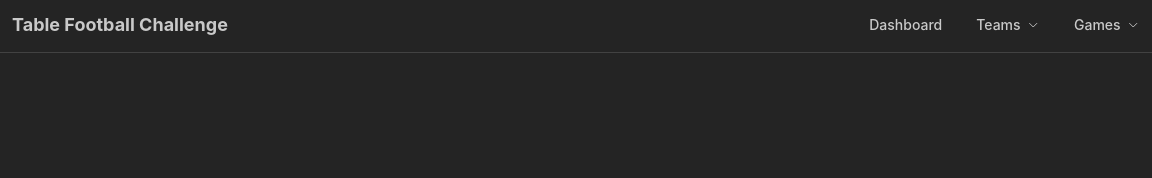
Test: Header › toggles menu dropdown when hovering over menu items
Open menu dropdown on hover
Hover over the link "Teams" at (1008, 24), box x1=976 y1=16 x2=1040 y2=33
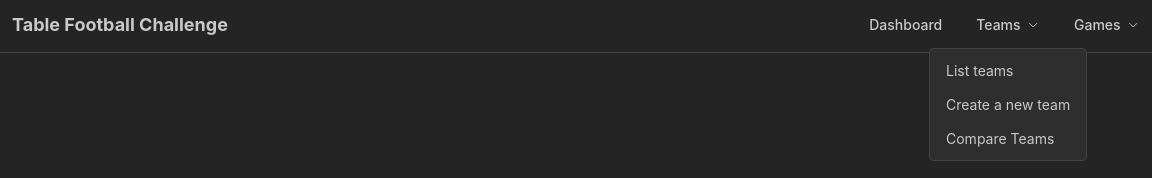
expect the text "List teams" is shown: met, box x1=946 y1=62 x2=1014 y2=79
